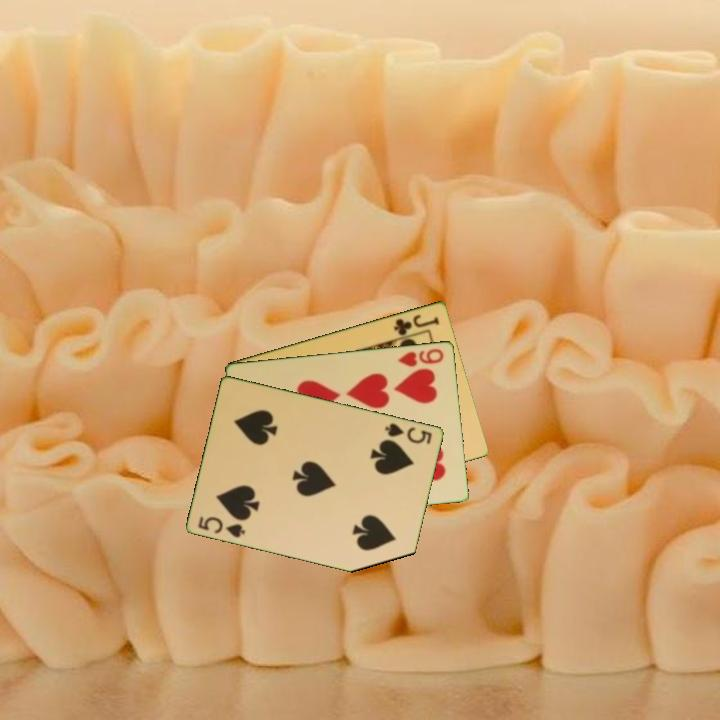5s: (382, 419, 435, 447), (195, 513, 248, 540)
9h: (394, 345, 447, 369)
Jc: (390, 311, 442, 338)
